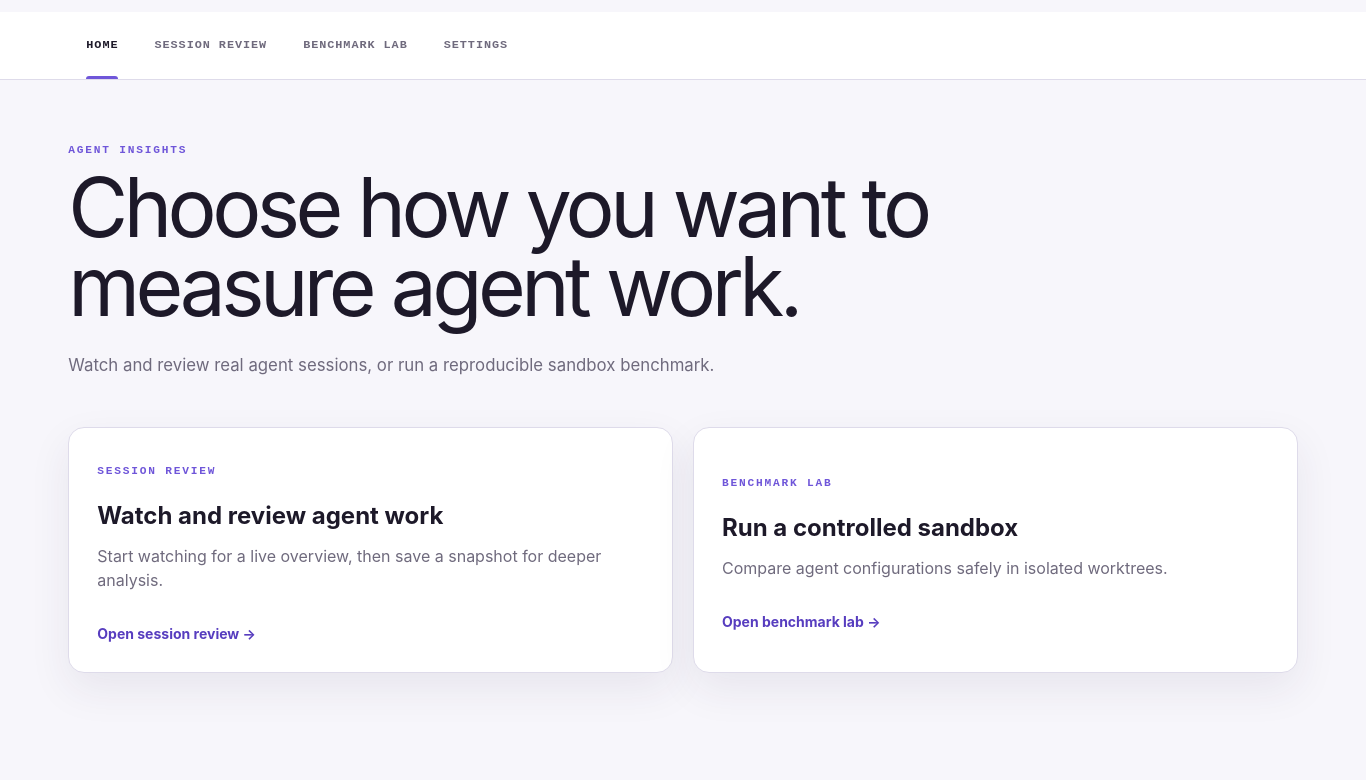
it: renders the typed run configuration and provider catalog
Click the button "Benchmark Lab": (355, 46) [285,12,426,79]
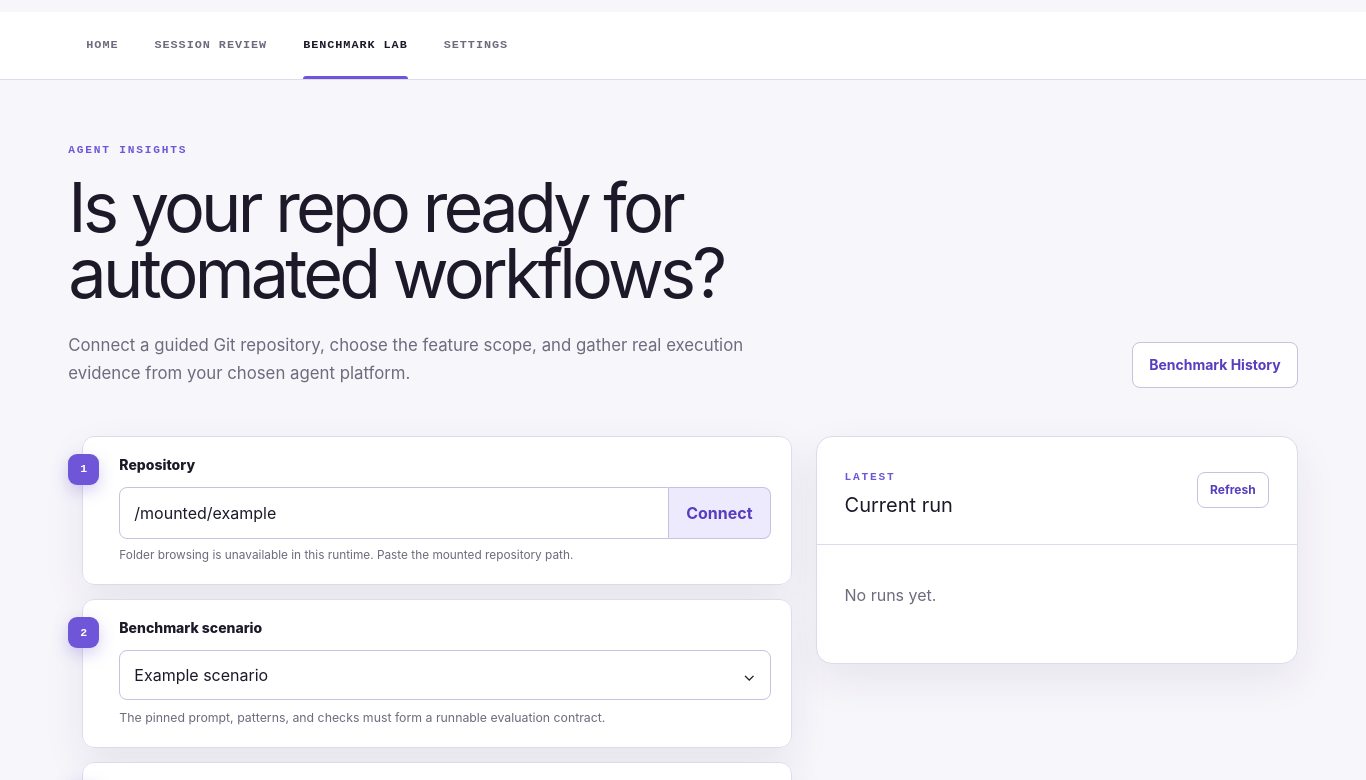
expect the field named "Local repository path" holds "/mounted/example": met, box [119,487,669,539]
expect the button named "Benchmark scenario" shows "Example scenario": met, box [119,650,770,700]
expect the text "Folder browsing is unavailable" is shown: met, box [119,548,573,562]
